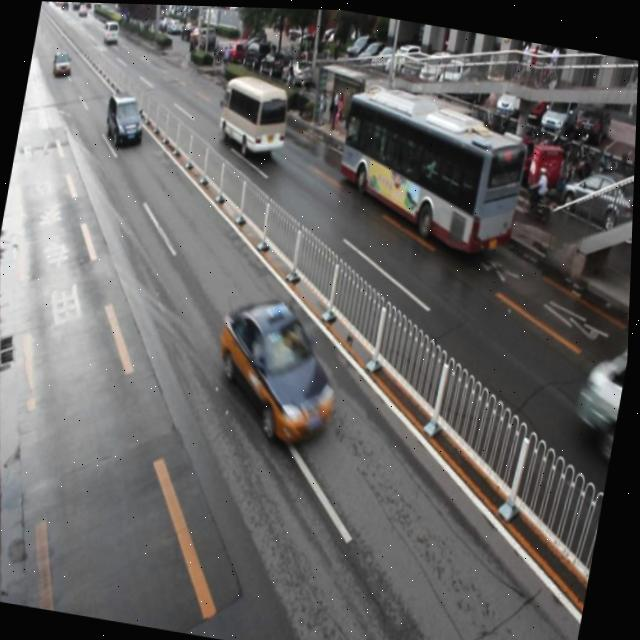car: (207, 290, 352, 449)
truck: (217, 71, 294, 152), (574, 341, 630, 440), (103, 88, 149, 150)
van: (329, 82, 533, 256)
